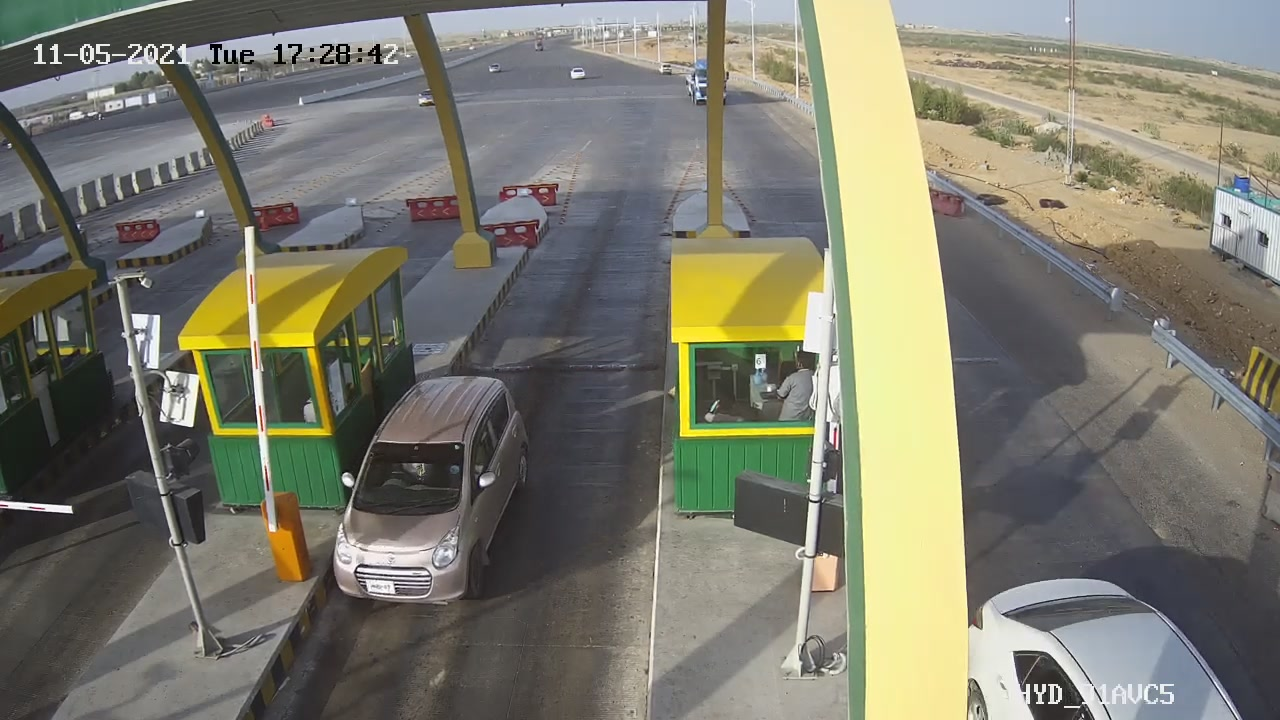F1: (316, 361, 543, 626)
